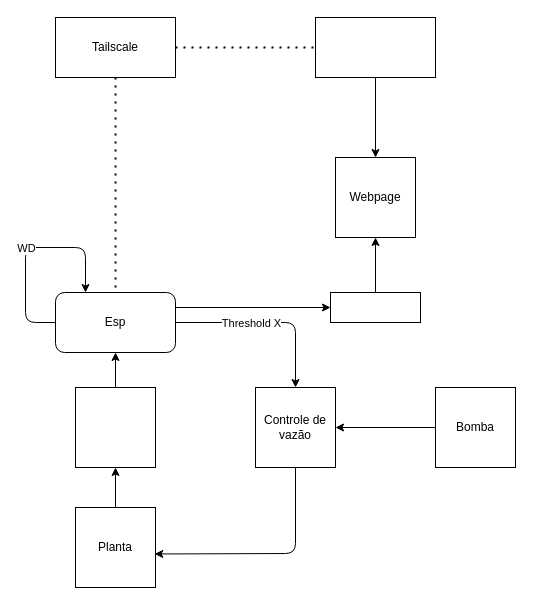
Image size: 533x605. Some labels were removed from this diagram. The centre of each missing label's shape, as x and y in pixels:
"curl" goes at (x=375, y=307).
"Higrômetro Analógico" goes at (x=115, y=427).
"Ubuntu Server" goes at (x=375, y=47).
